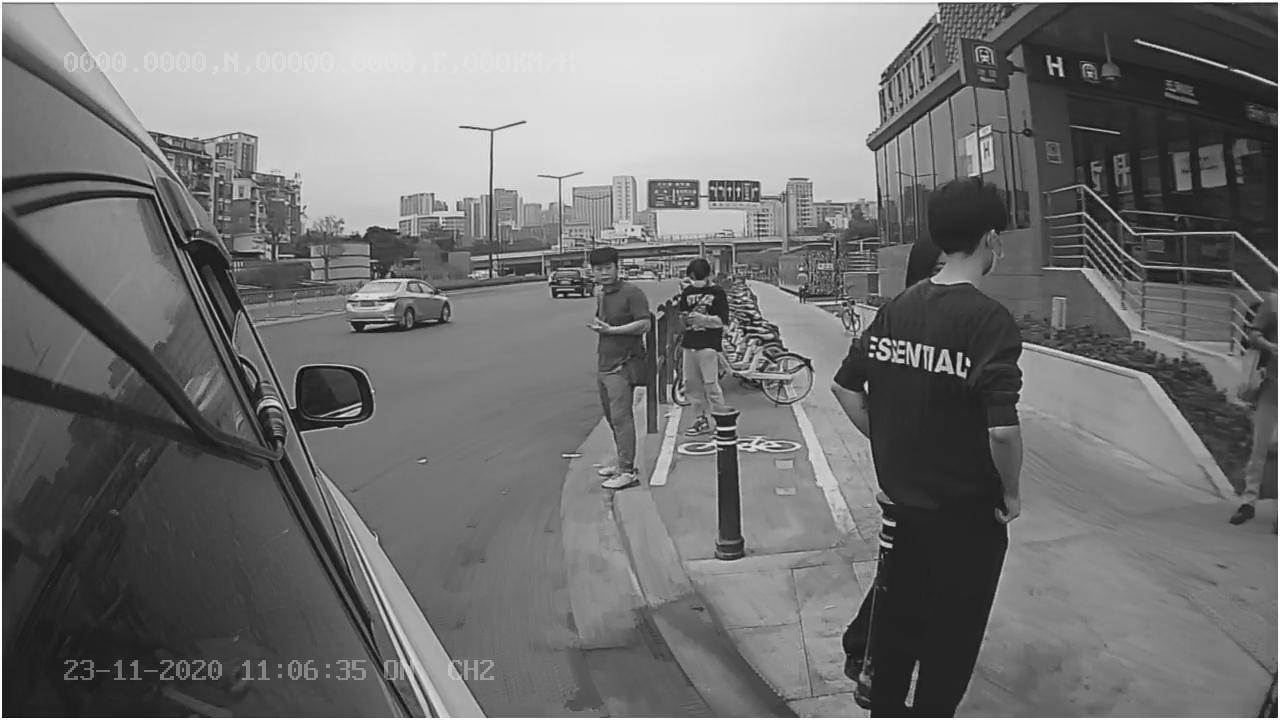person: (571, 242, 648, 495)
